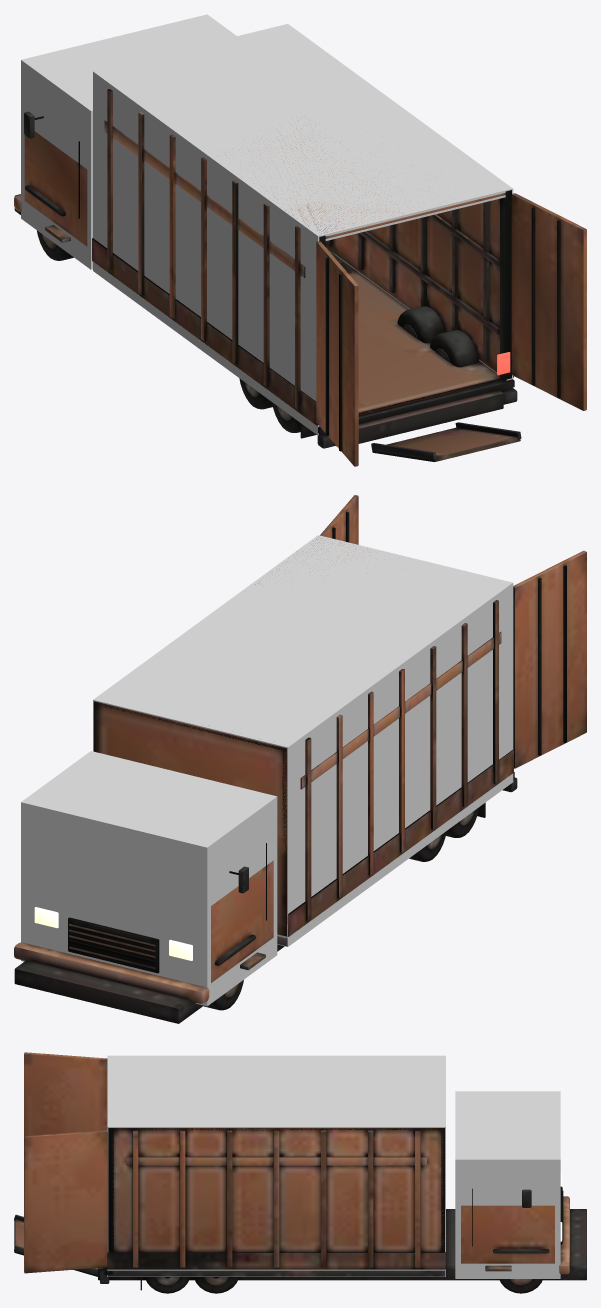
File: Truck.glb
3 views of the same model, one above another, from view 1: azimuth 30°, elevation 25°; view 2: azimuth 150°, elevation 25°; view 3: azimuth 270°, elevation 25° (orthographic). The views are drawn at different scales.
Visible parts, largest first — view 1: Tex__SmoothPlastic__FFFFFF, Col_2__Plastic__000000, Col_4__Plastic__000000, Col_6__Plastic__000000, Col_1__Plastic__000000, Col_5__Plastic__000000; view 2: Tex__SmoothPlastic__FFFFFF, Col_2__Plastic__000000, Col_6__Plastic__000000, Col_4__Plastic__000000, Col_1__Plastic__000000, Mat4__Neon__FFE2A8, Col_5__Plastic__000000; view 3: Tex__SmoothPlastic__FFFFFF, Col_2__Plastic__000000, Col_6__Plastic__000000, Col_3__Plastic__000000, Col_1__Plastic__000000.
Boxes of the visible parts, <box> form: Tex__SmoothPlastic__FFFFFF: <box>14,89,586,466</box>; Col_2__Plastic__000000: <box>93,24,513,241</box>; Col_4__Plastic__000000: <box>96,81,323,426</box>; Col_6__Plastic__000000: <box>21,14,236,269</box>; Col_1__Plastic__000000: <box>93,262,513,435</box>; Col_5__Plastic__000000: <box>93,78,96,264</box>; Tex__SmoothPlastic__FFFFFF: <box>14,495,586,1023</box>; Col_2__Plastic__000000: <box>93,535,513,754</box>; Col_6__Plastic__000000: <box>21,751,277,1006</box>; Col_4__Plastic__000000: <box>281,581,513,937</box>; Col_1__Plastic__000000: <box>277,773,513,946</box>; Mat4__Neon__FFE2A8: <box>34,907,192,960</box>; Col_5__Plastic__000000: <box>212,726,291,937</box>; Tex__SmoothPlastic__FFFFFF: <box>14,1052,586,1293</box>; Col_2__Plastic__000000: <box>107,1055,445,1131</box>; Col_6__Plastic__000000: <box>455,1091,560,1278</box>; Col_3__Plastic__000000: <box>107,1132,445,1270</box>; Col_1__Plastic__000000: <box>107,1270,445,1276</box>.
Size of the model in its own units: 3.01 by 2.84 by 8.53.
Materials: 5 (1 with a texture image).
